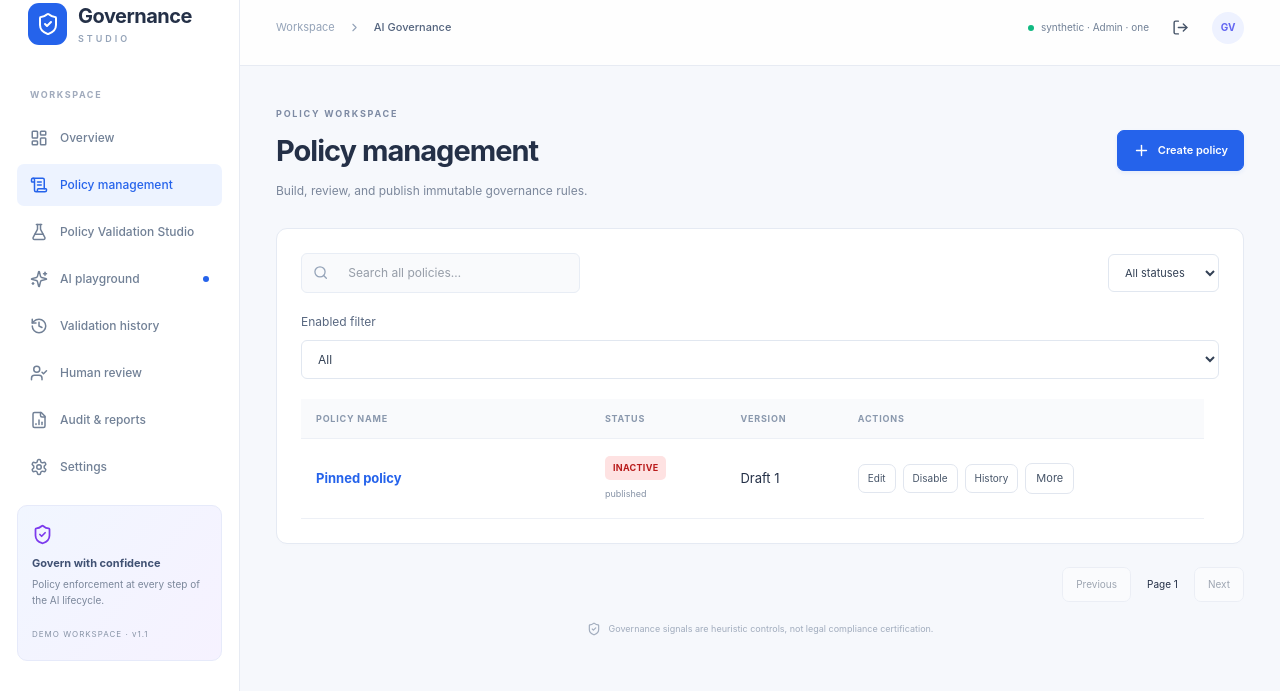
Test case: requires an explicit version, sends a strong workspace precondition, and deactivates independently
(page scrolled)
Click the heading "More": (1050, 479) [1025, 463, 1074, 494]
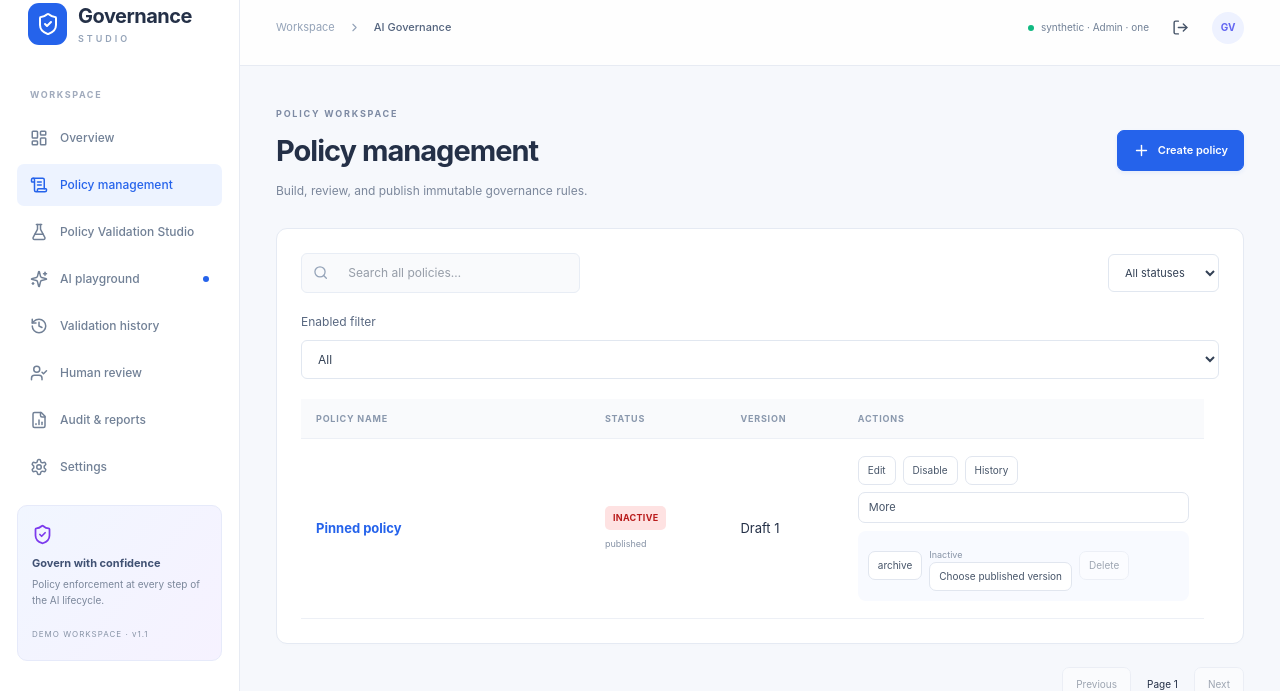
Click the button "Choose published version": (1001, 576) [929, 562, 1072, 591]
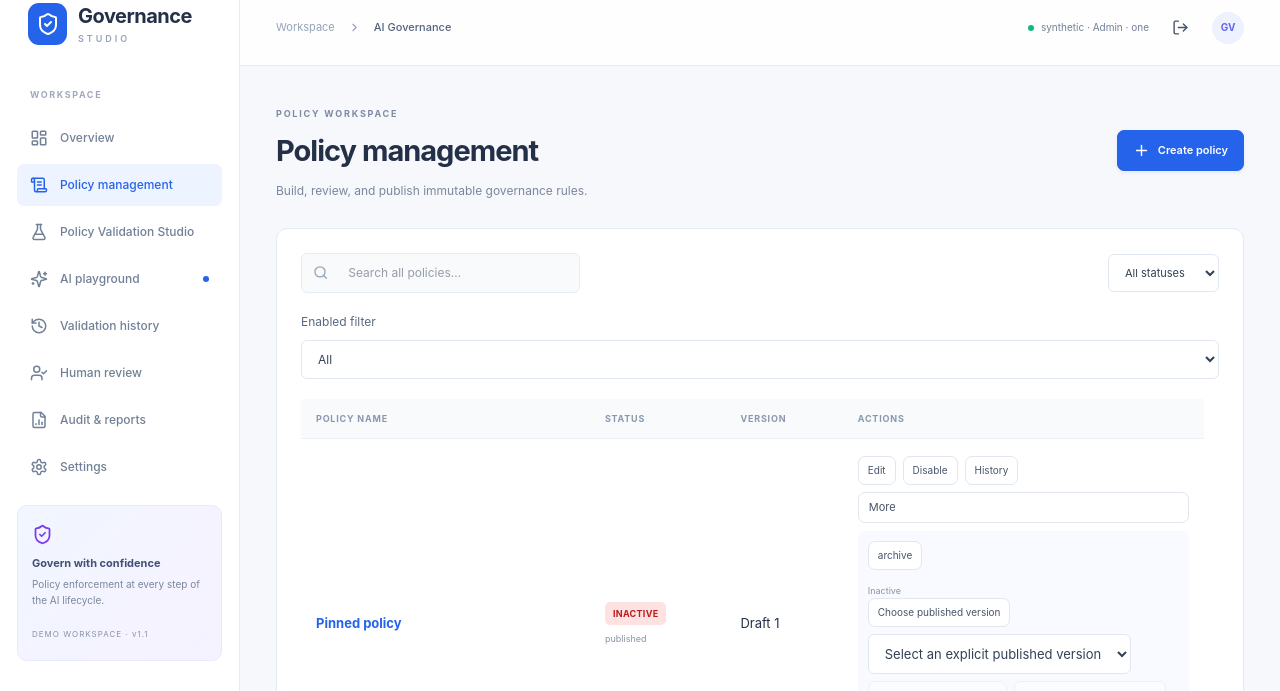
Select "Version 1" in the dropdown named "Published version for Pinned policy": (999, 654) [868, 634, 1131, 674]
(page scrolled)
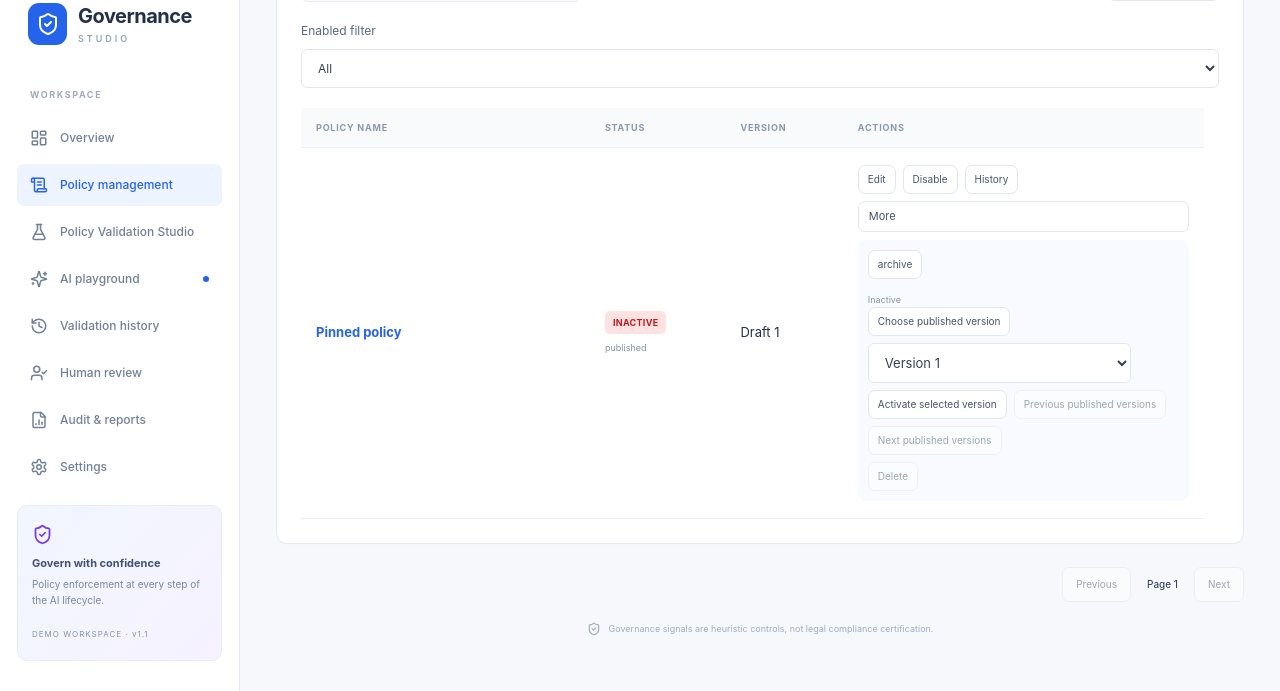
Click the button "Activate selected version": (937, 404) [868, 390, 1007, 419]
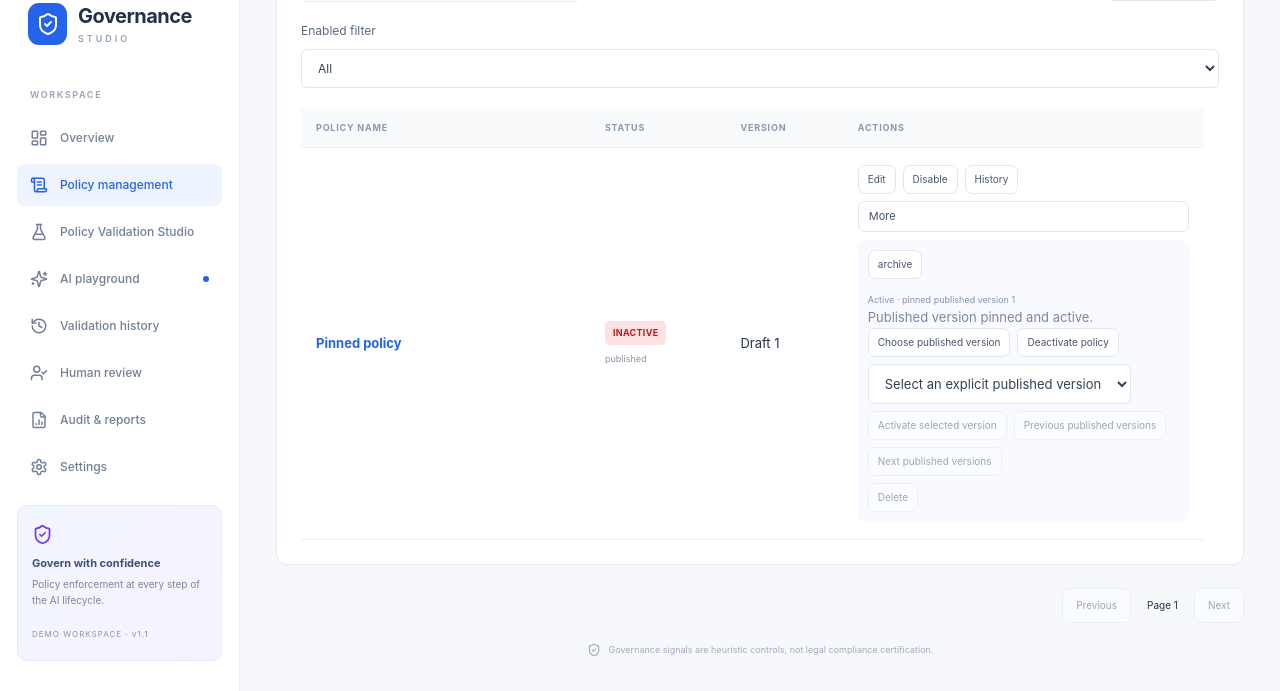
Now the text "Active · pinned published version 1" is shown, box [868, 294, 1015, 305]
Click the button "Deactivate policy": (1068, 342) [1018, 328, 1119, 357]
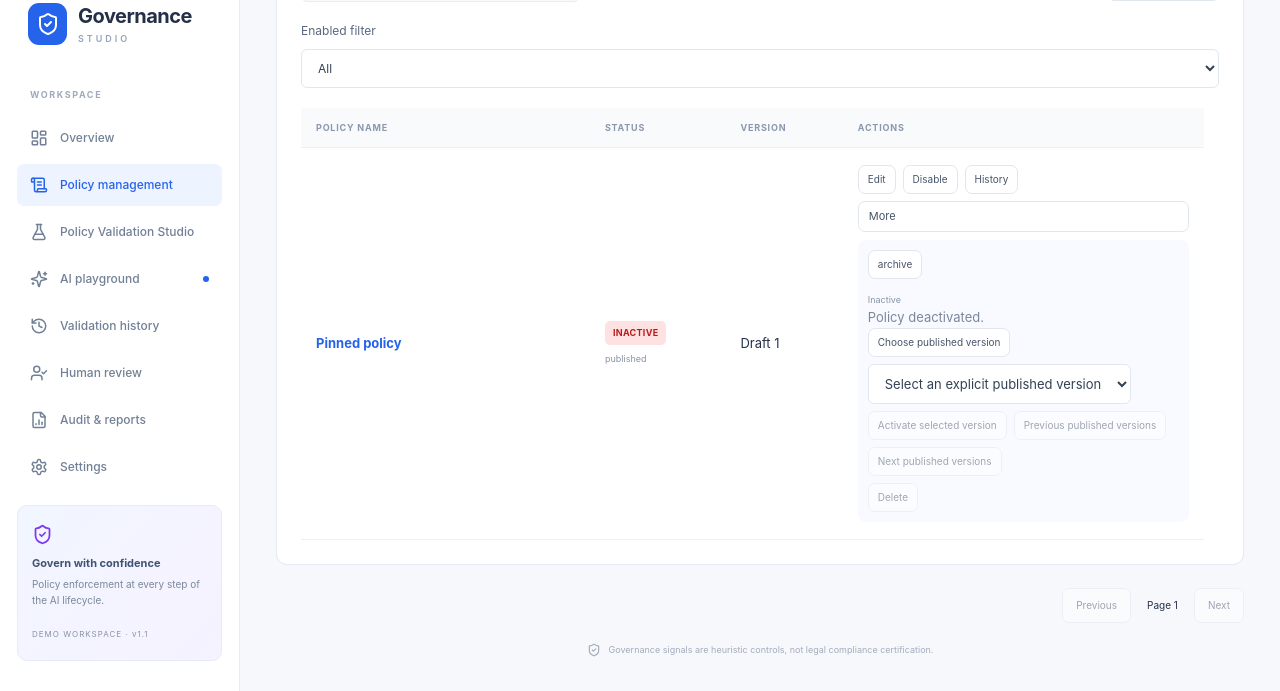
Now the text "Policy deactivated." is shown, box [868, 309, 984, 325]
